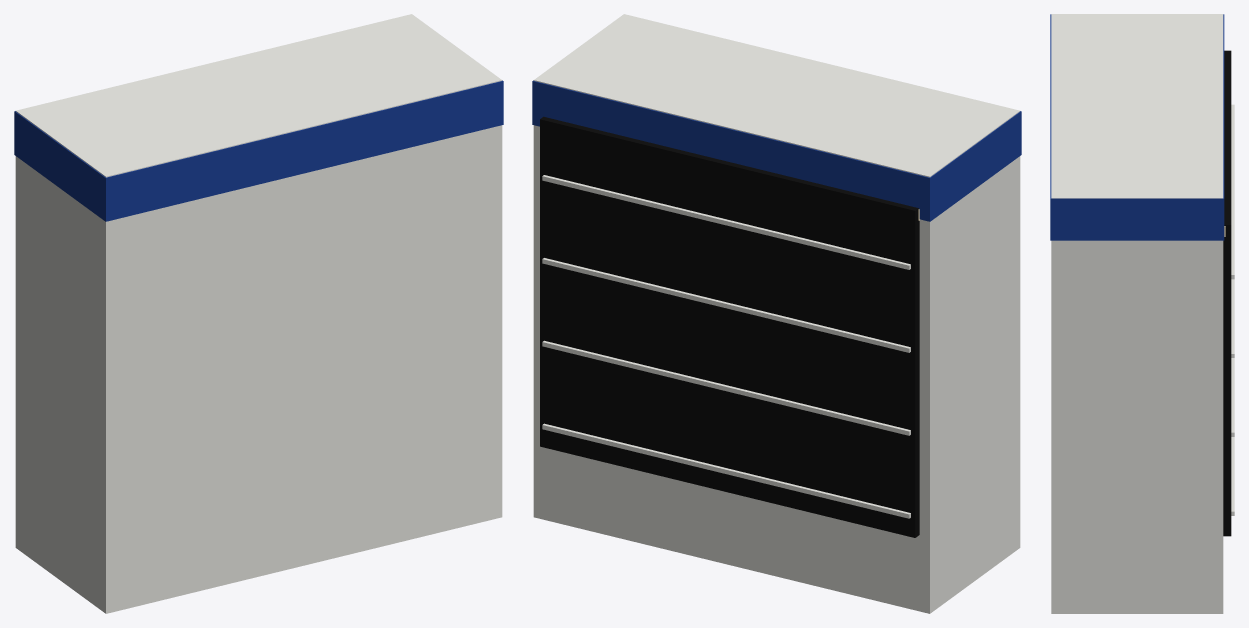
The model's file is retail.store.chiller.glb.
3 views of the same model, side by side, from view 1: azimuth 30°, elevation 25°; view 2: azimuth 150°, elevation 25°; view 3: azimuth 270°, elevation 25° (orthographic). The views are drawn at different scales.
Visible parts, largest first — view 1: main__paint_white, main__plastic_blue; view 2: main__plastic_black, main__paint_white, main__plastic_blue; view 3: main__paint_white, main__plastic_blue, main__plastic_black.
Boxes of the visible parts, bbox=[...] form: main__paint_white: bbox=[15, 14, 502, 613]; main__plastic_blue: bbox=[14, 80, 503, 221]; main__plastic_black: bbox=[540, 116, 919, 537]; main__paint_white: bbox=[533, 14, 1020, 613]; main__plastic_blue: bbox=[532, 80, 1021, 221]; main__paint_white: bbox=[1051, 14, 1234, 613]; main__plastic_blue: bbox=[1050, 14, 1224, 240]; main__plastic_black: bbox=[1223, 50, 1231, 536].
Bounding box in the file's own units: 1.91 × 2 × 0.805.
